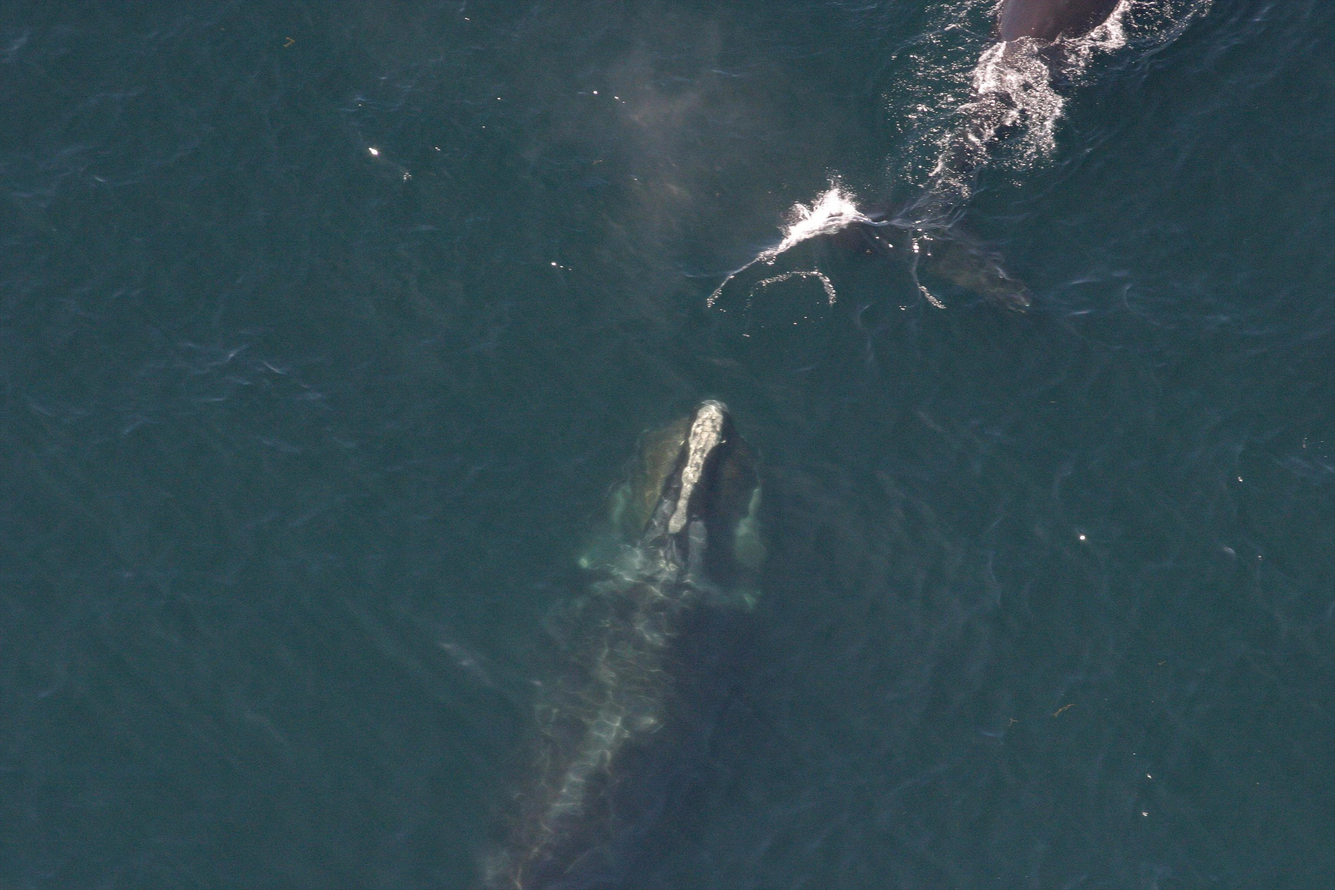whale: (471, 392, 777, 890), (787, 0, 1145, 324)
